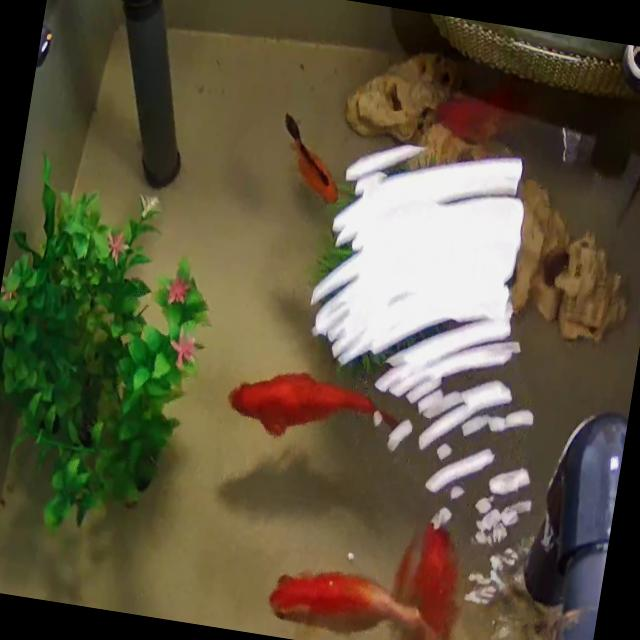fish: (230, 364, 360, 449), (267, 563, 409, 640), (391, 521, 474, 640), (274, 114, 350, 208), (432, 86, 516, 152)
